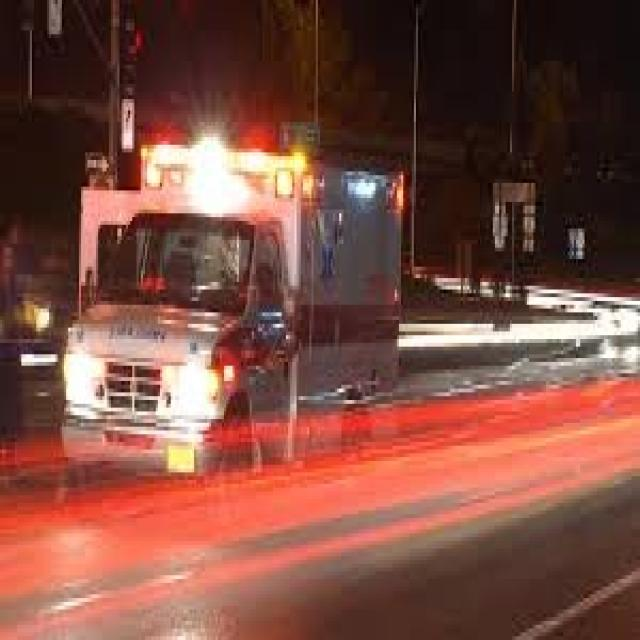ambulance: (60, 129, 315, 418)
